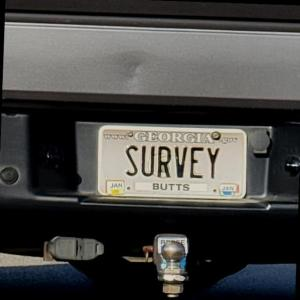Plate: (96, 126, 248, 198)
